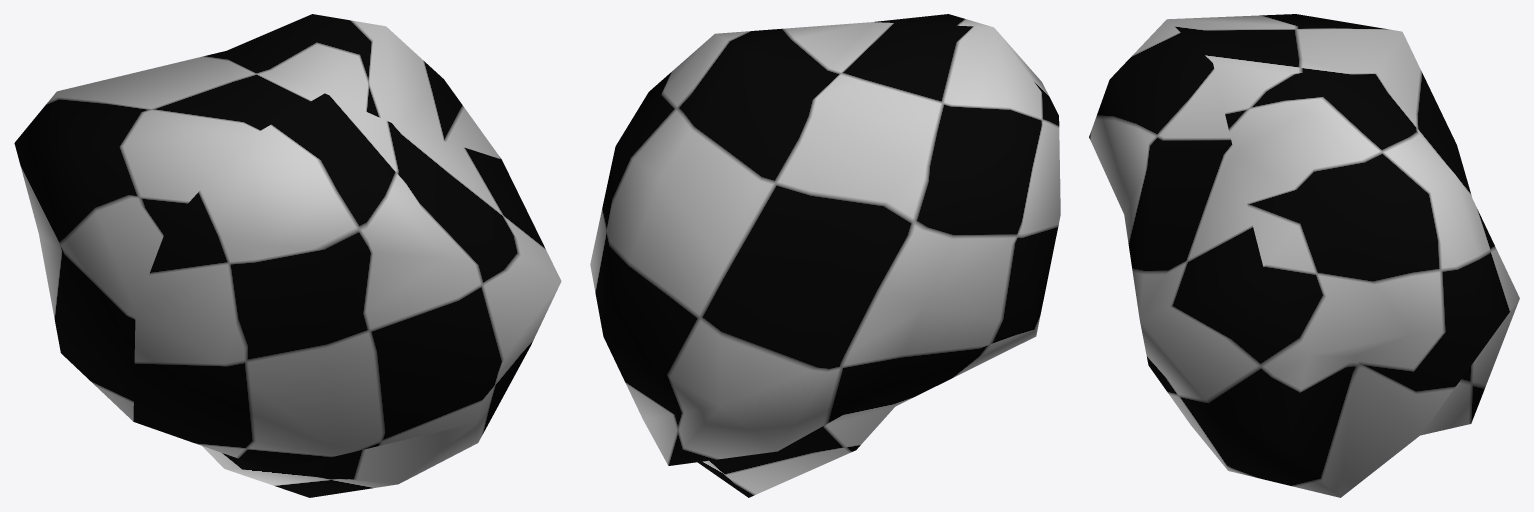
Rendered from asset-mmo-asteroid-a.obj.
3 renders of one model, left to right at view 1: azimuth 30°, elevation 25°; view 2: azimuth 150°, elevation 25°; view 3: azimuth 270°, elevation 25°, orthographic. The views are drawn at different scales.
Visible parts, largest first — view 1: asset_mmo_asteroid_a; view 2: asset_mmo_asteroid_a; view 3: asset_mmo_asteroid_a.
Boxes of the visible parts, <box> form: asset_mmo_asteroid_a: <box>14,14,561,497</box>; asset_mmo_asteroid_a: <box>590,14,1060,497</box>; asset_mmo_asteroid_a: <box>1089,14,1519,497</box>.
Bounding box in the file's own units: 100 × 107 × 101.
1 material, 1 textured.
